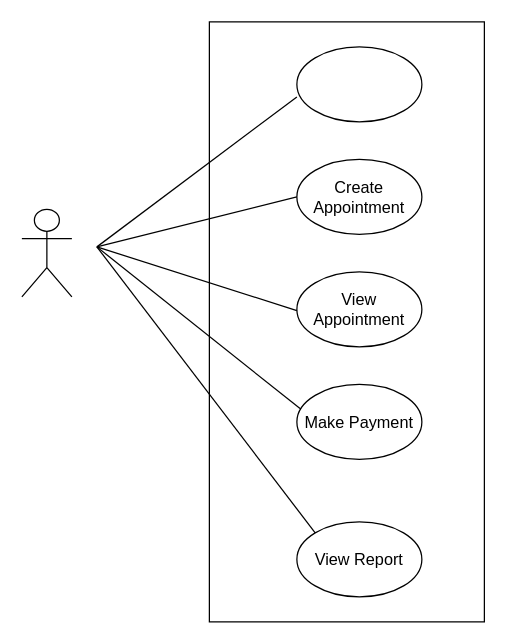
The diagram is 506 pixels wide and 644 high, and some of its shapes have lost their labels. The centre of each missing label's shape, as x and y in pixels:
"Login" belongs at pixel 359 84.
"Patient" belongs at pixel 46 252.
